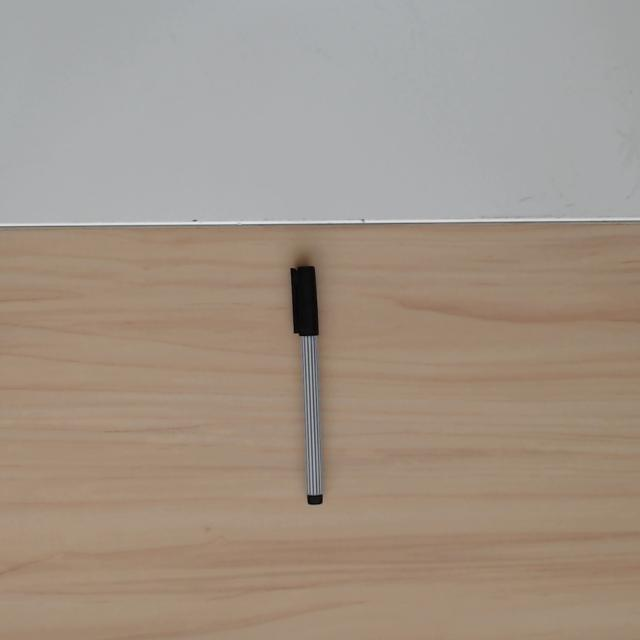Pulpen-Garis-Hitam: (289, 266, 329, 507)
